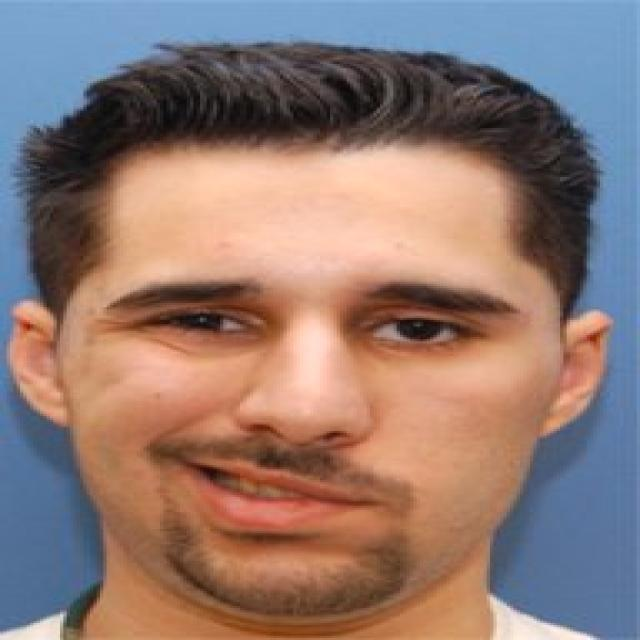stroke_face: (54, 122, 534, 617)
